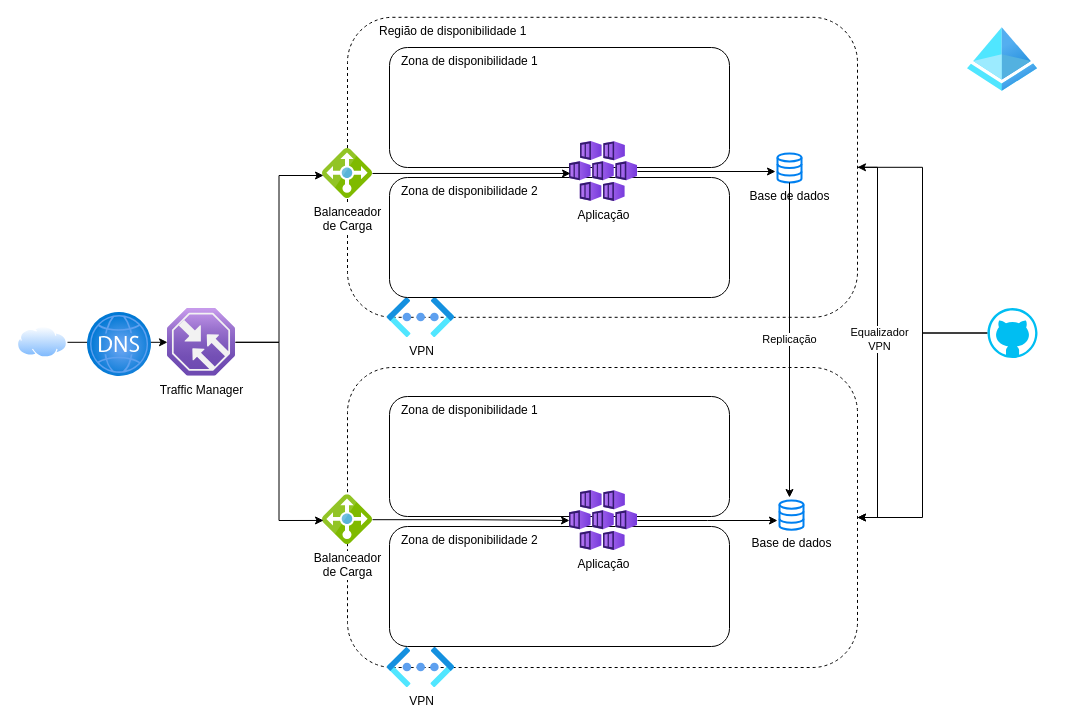
The diagram is 1069 pixels wide and 726 high, and some of its shapes have lost their labels. The box of each missing label's shape, as (x1, y1, x2, y2) in pixels:
GitHub Actions: (987, 308, 1037, 358)
IDP: (967, 27, 1037, 91)
Internet: (17, 326, 67, 358)
Região de disponibilidade 2: (346, 366, 858, 668)
